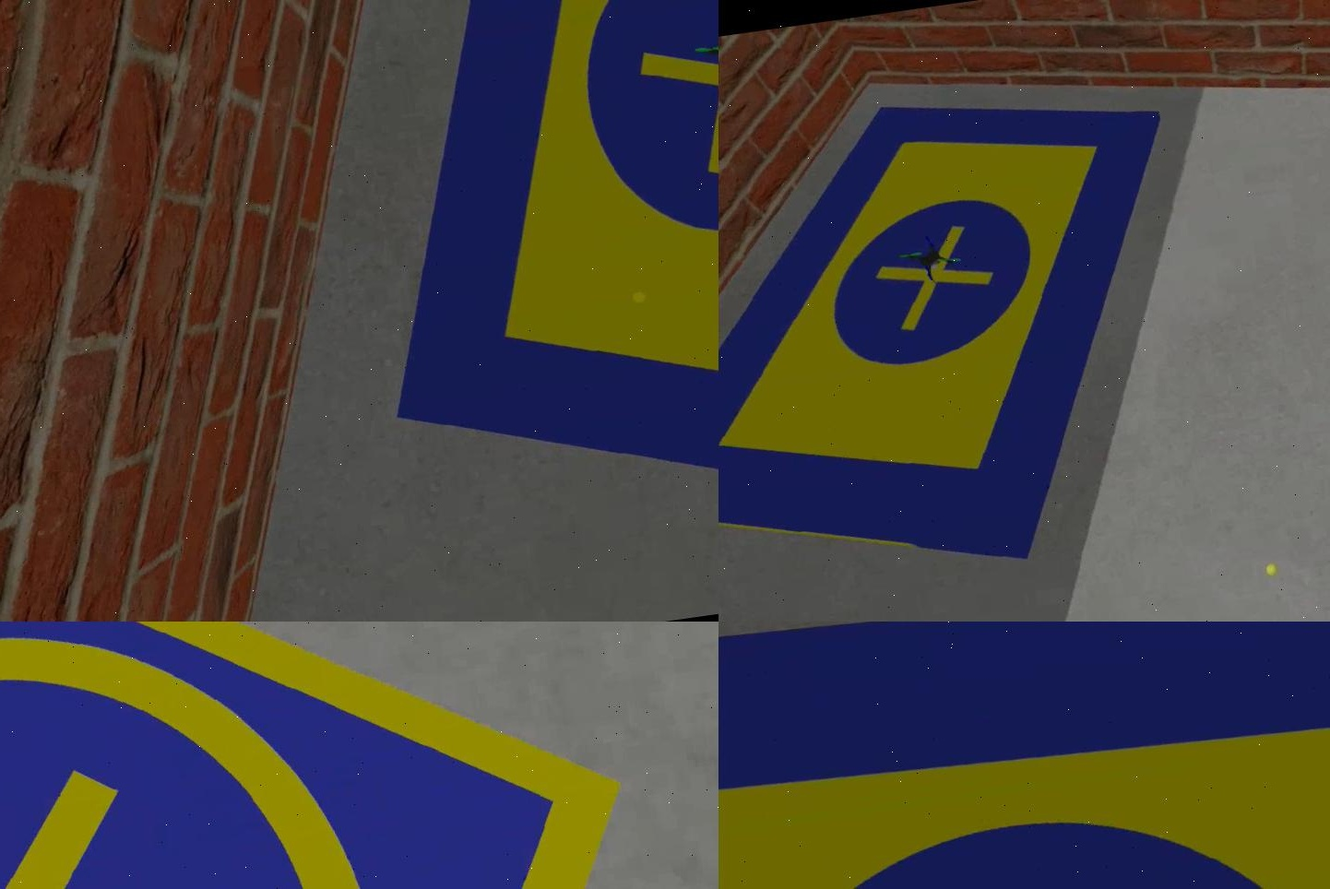large_base: (717, 68, 1220, 612), (331, 1, 717, 579), (717, 622, 1328, 889)
small_base: (0, 622, 680, 889)
